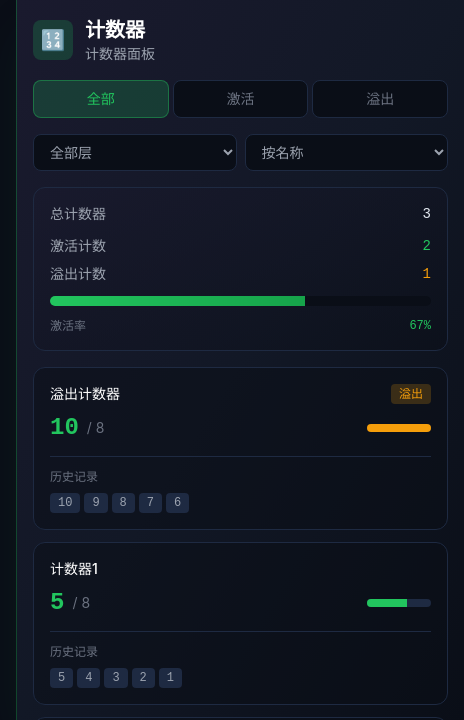
Test: CounterPanel › Tab Filtering › switches tabs correctly
The image size is (464, 720).
Switch to overflow
Click the button with test id "counter-tab-overflow".
click(380, 99)  # box [312,80,448,118]
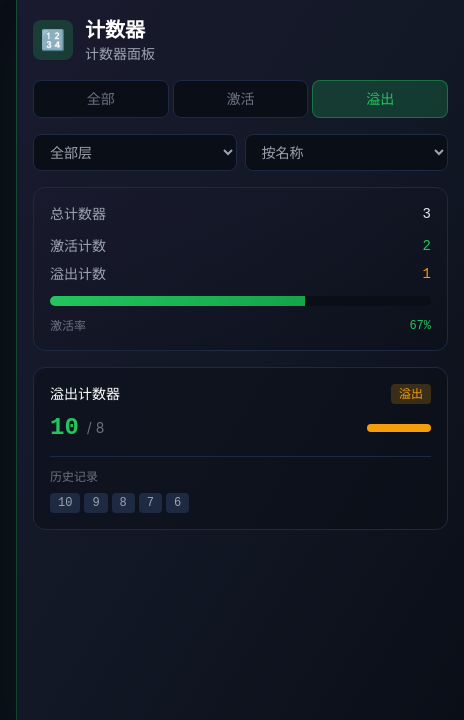
Expected: the element with test id "counter-item-counter-3" is shown, [33,367,448,530]
Switch back to all
Click the button with test id "counter-tab-all".
click(101, 99)  # box [33,80,169,118]
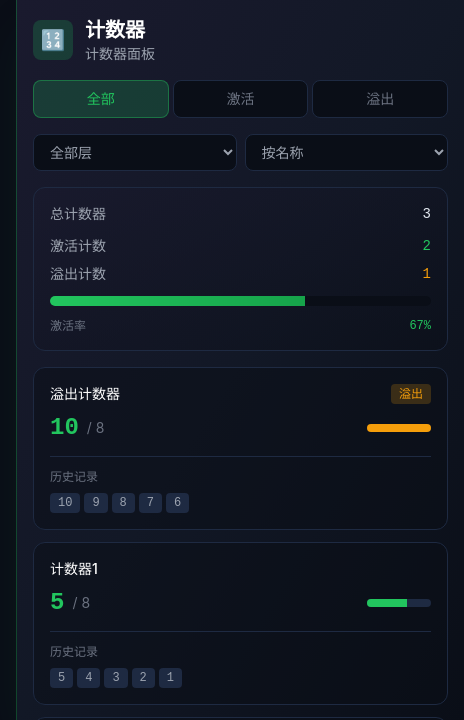
Expected: the element with test id "counter-item-counter-3" is shown, [33,367,448,530]
Expected: the element with test id "counter-item-counter-1" is shown, [33,542,448,705]
